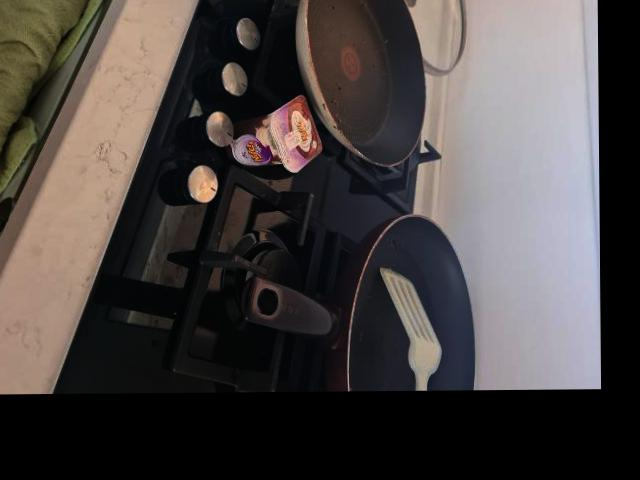milky: (229, 100, 322, 172)
